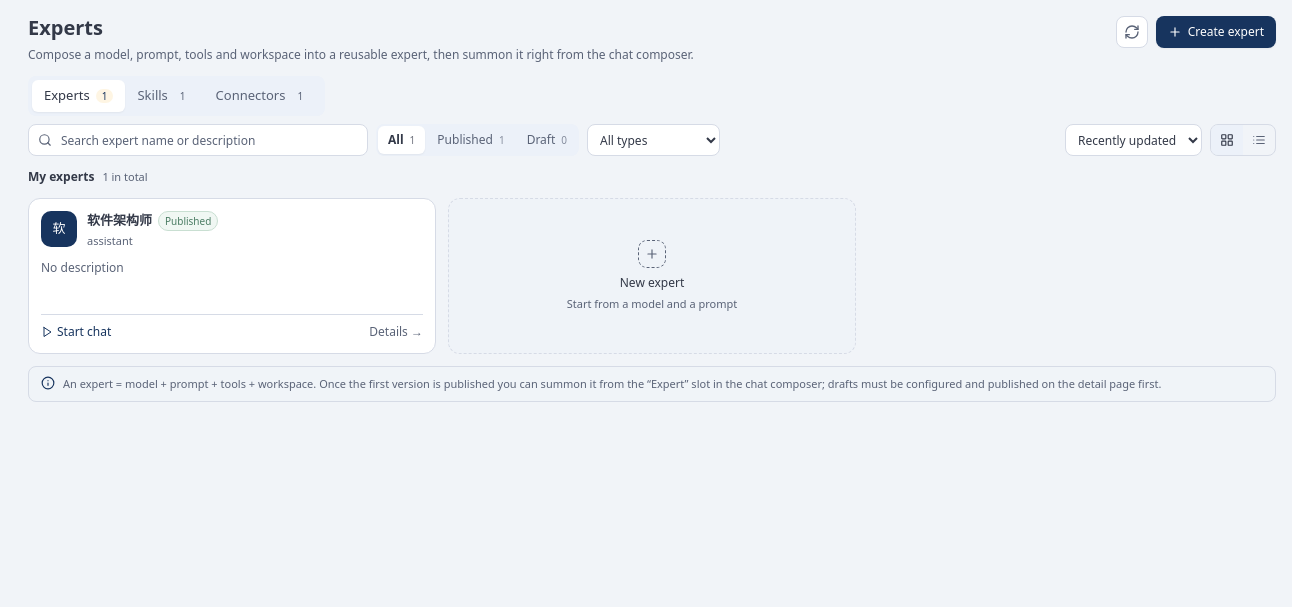
Scenario: Agents · V0.4.5 B4 · F-22.3~22.5（三 Tab） › 切换「技能」Tab → 面板激活 + URL 同步 ?tab=skills
Step 1. Press the mouse on the tab with test id "agents-tab-skills" → (165, 96), box [126,80,204,112]
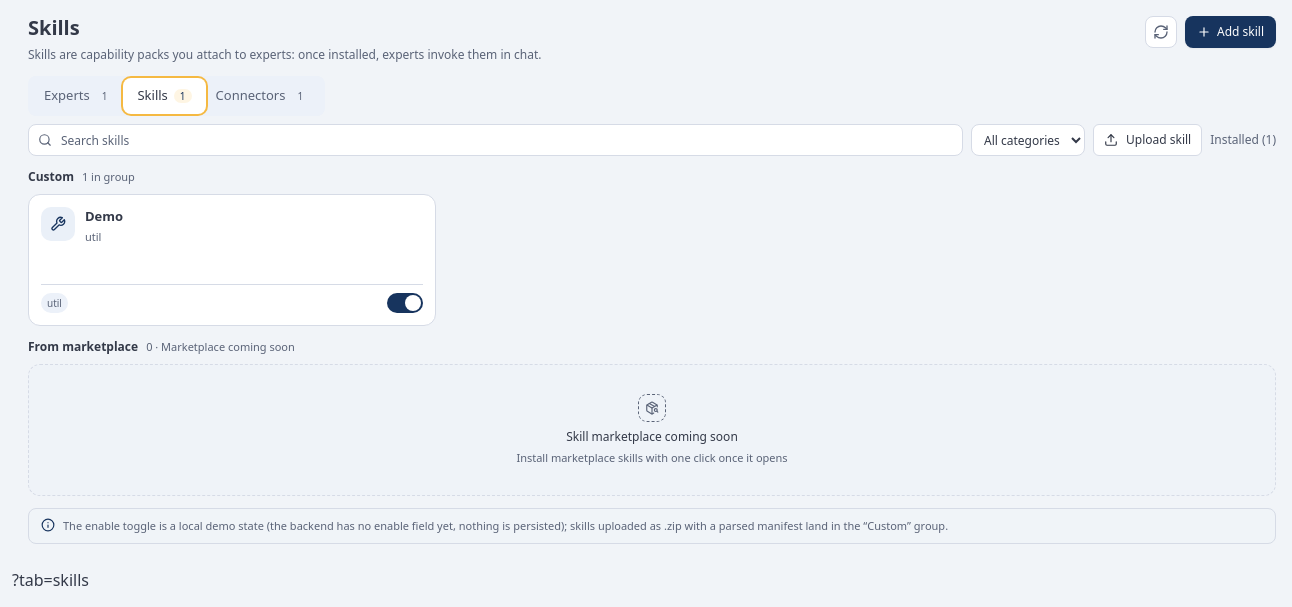
Expected: the text with test id "location-search" shows "tab=skills", [12,569,89,591]
